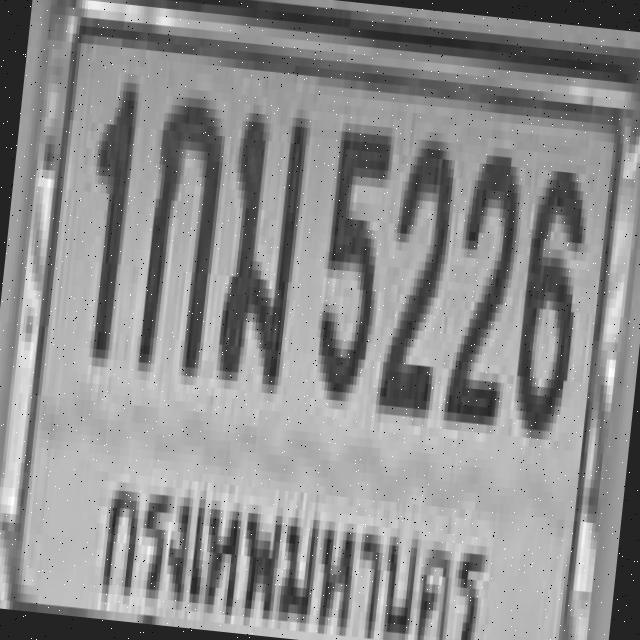1: (74, 66, 138, 354)
10GorGai: (135, 86, 226, 368)
2: (441, 144, 522, 416), (376, 128, 454, 410)
42MorMa: (212, 98, 306, 380)
5: (311, 113, 393, 394)
6: (508, 160, 586, 432)
Bangkok: (80, 444, 505, 640)
